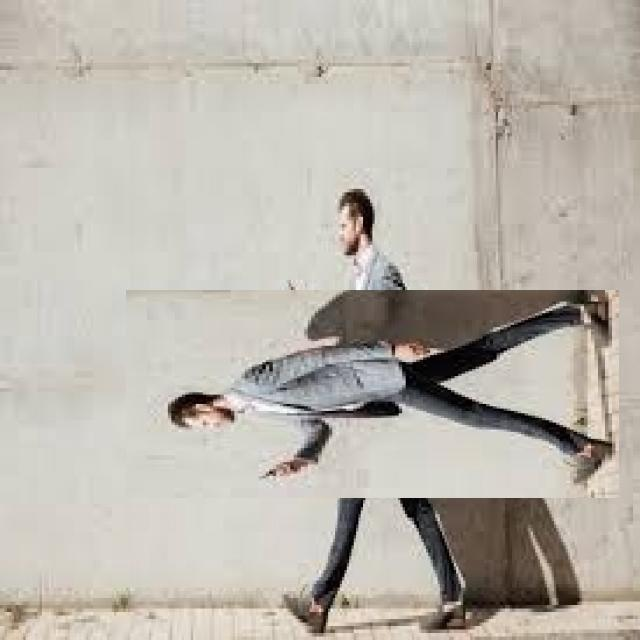NotFall: (135, 298, 614, 483)
